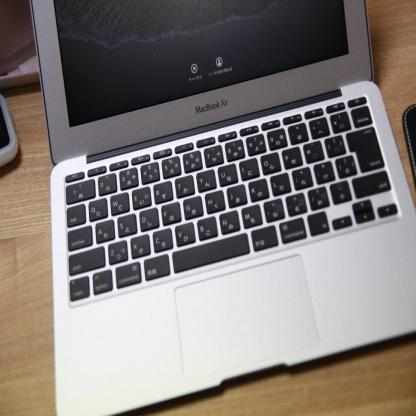board: (28, 0, 415, 415)
